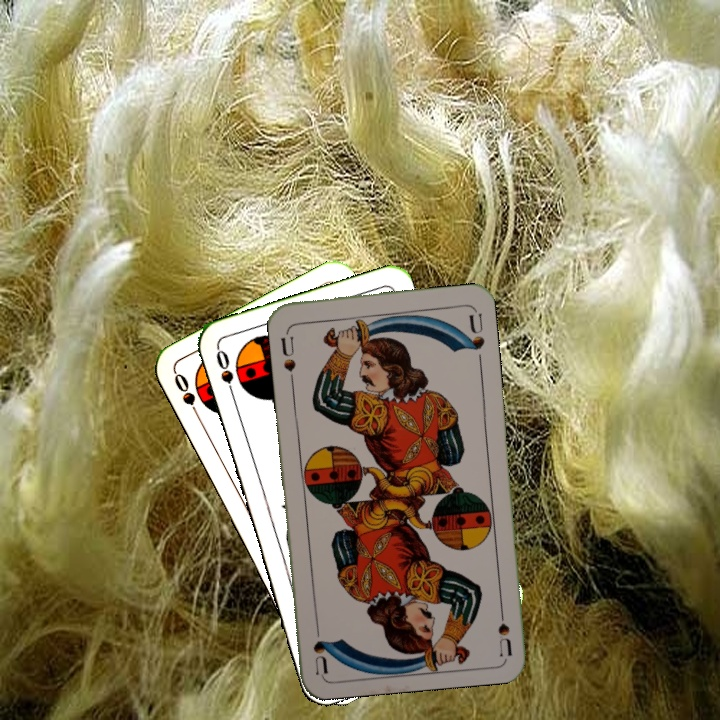SO: (170, 369, 204, 424), (212, 345, 238, 403)
SU: (277, 325, 298, 385), (494, 597, 515, 657)
